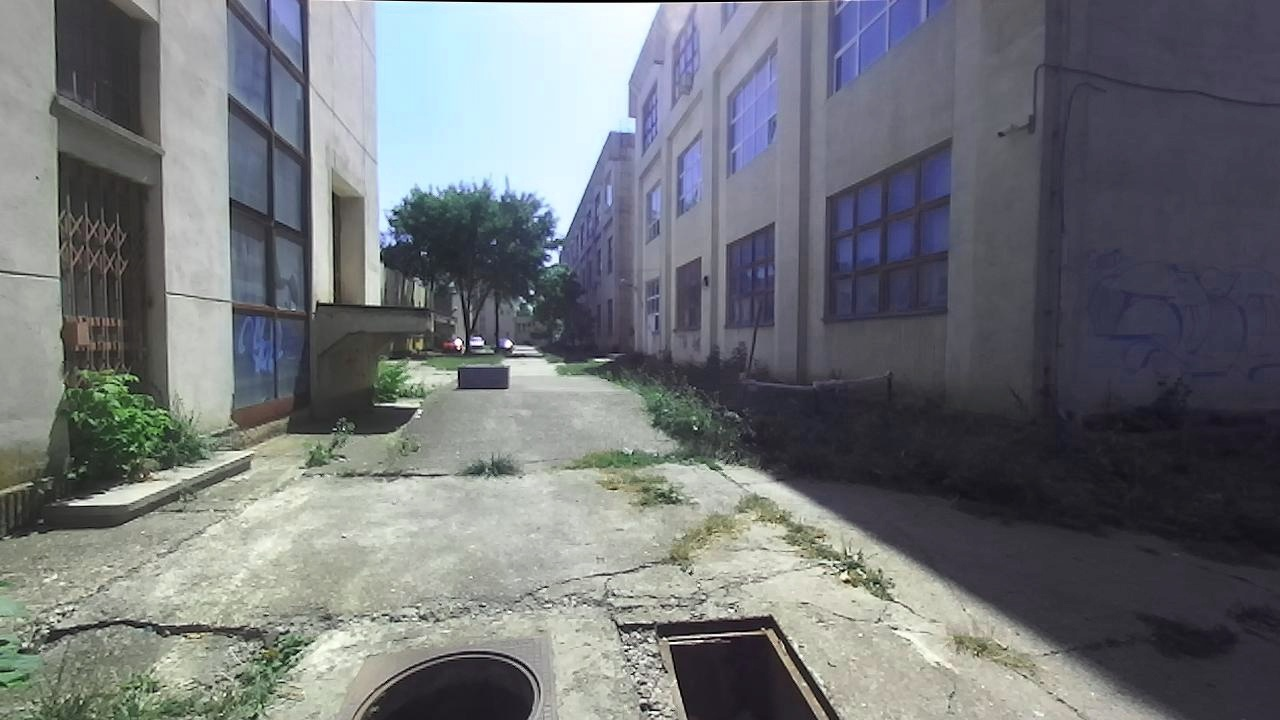drain: (651, 609, 843, 719), (347, 645, 548, 719)
